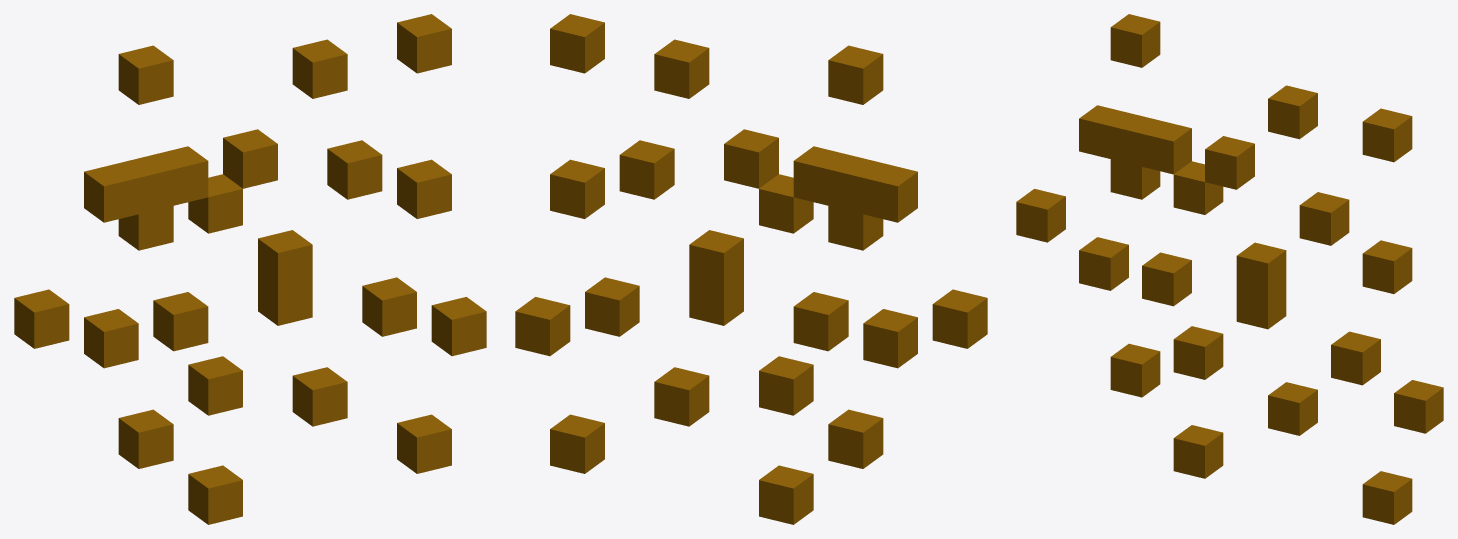
File: Prototype Bullet Spray.obj
3 views of the same model, side by side, from view 1: azimuth 30°, elevation 25°; view 2: azimuth 150°, elevation 25°; view 3: azimuth 330°, elevation 25° (orthographic). The views are drawn at different scales.
Size of the model in its own units: 1.3 by 1.3 by 0.1.
